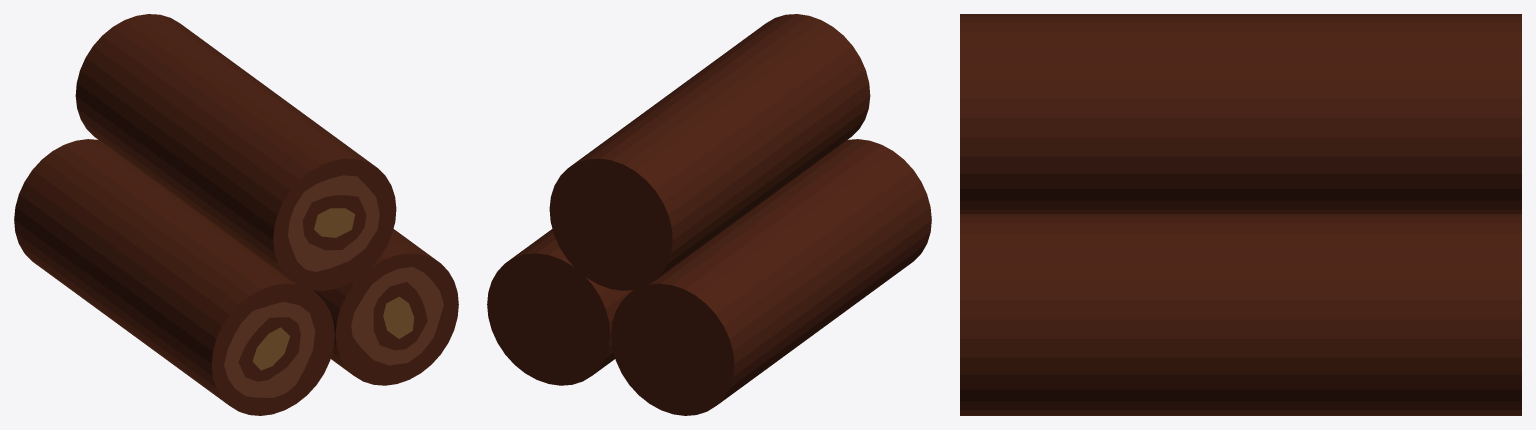
File: wood.fbx
3 views of the same model, side by side, from view 1: azimuth 30°, elevation 25°; view 2: azimuth 150°, elevation 25°; view 3: azimuth 270°, elevation 25° (orthographic). The views are drawn at different scales.
Parts seen in each view (by area): view 1: Cylinder.002; view 2: Cylinder.002; view 3: Cylinder.002.
Part boxes in pixels (x1,y1,x2,y2): Cylinder.002: (14, 14, 458, 415); Cylinder.002: (487, 14, 931, 415); Cylinder.002: (960, 14, 1521, 415).
Size of the model in its own units: 189 by 174 by 261.
